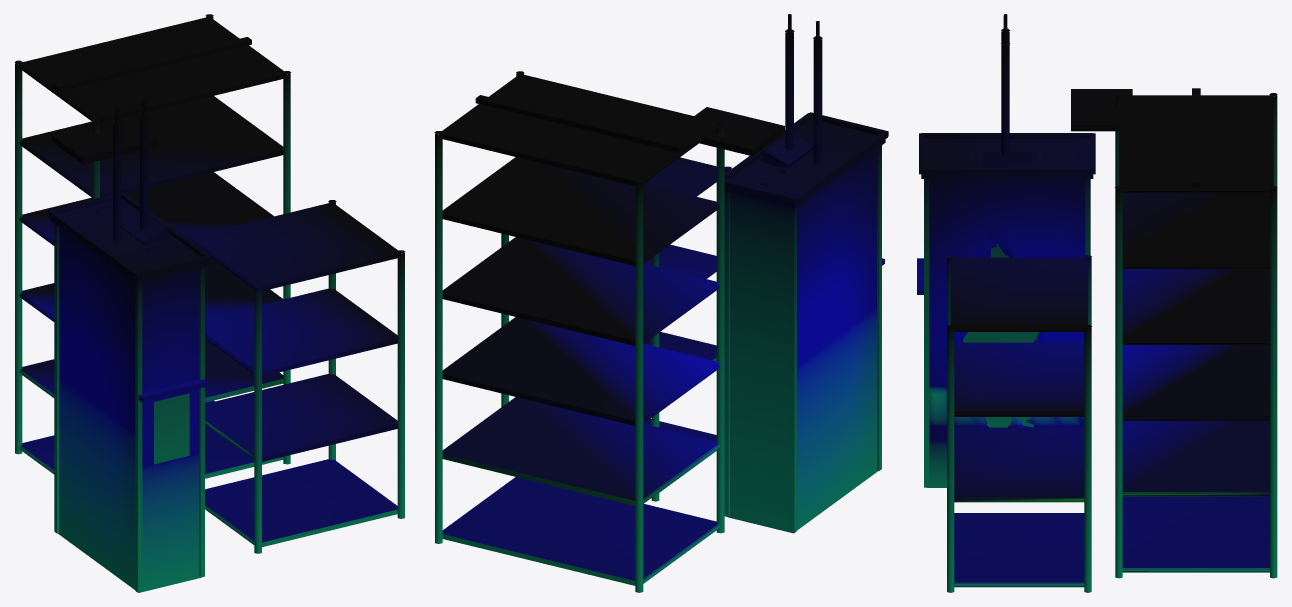
File: gantry_damaged.glb
3 views of the same model, side by side, from view 1: azimuth 30°, elevation 25°; view 2: azimuth 150°, elevation 25°; view 3: azimuth 270°, elevation 25° (orthographic). The views are drawn at different scales.
Visible parts, largest first — view 1: lod0; view 2: lod0; view 3: lod0.
Boxes of the visible parts, x1,y1,x2,y2 form: lod0: (14, 14, 405, 592); lod0: (434, 14, 888, 592); lod0: (917, 14, 1277, 592).
Size of what is drawn, in the model's own units: 19.1 by 29 by 21.
